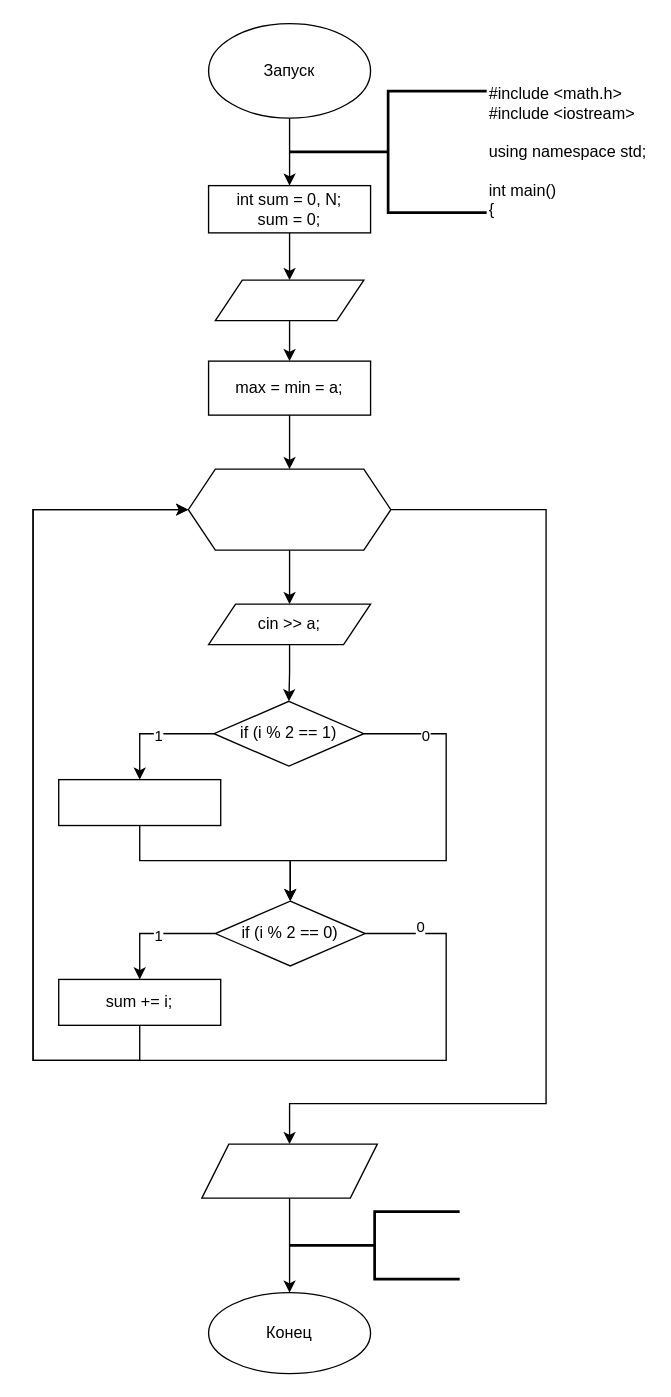
The diagram is 671 pixels wide and 1397 high, and some of its shapes have lost their labels. Each missing label, with the centre of its shape:
cin >> N;: point 289,300
cout << sum;: point 288,1170
for (int i = 1; i <= N; i++): point 289,509
return 0; }: point 374,1245
sum -= i;: point 139,802
